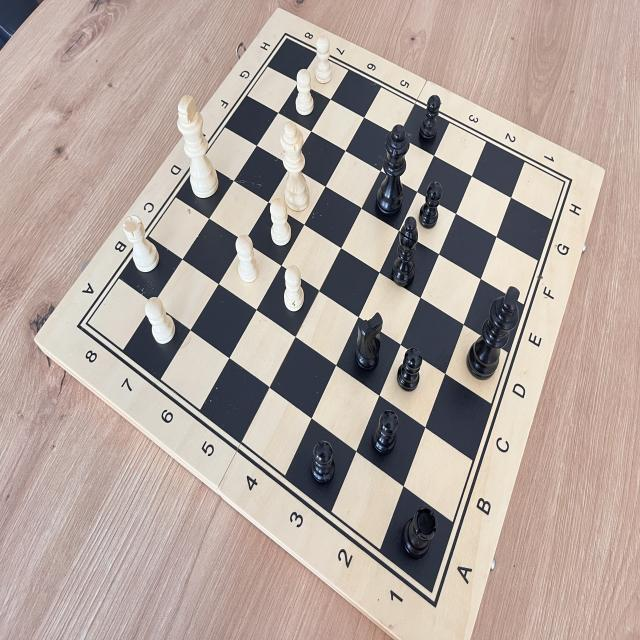black-bishop: (383, 210, 424, 296)
black-king: (456, 281, 528, 398)
black-knight: (346, 304, 386, 380)
black-pawn: (306, 432, 342, 498), (366, 402, 402, 466), (413, 176, 447, 234), (393, 338, 426, 397), (414, 91, 445, 146)
black-queen: (366, 117, 419, 220)
black-rook: (397, 498, 446, 572)
white-king: (170, 88, 222, 205)
white-pawn: (141, 291, 181, 359), (260, 193, 296, 249), (306, 31, 341, 88), (276, 261, 311, 317), (230, 233, 264, 286), (289, 65, 318, 122)
white-queen: (272, 113, 317, 218)
white-rook: (119, 208, 164, 278)
